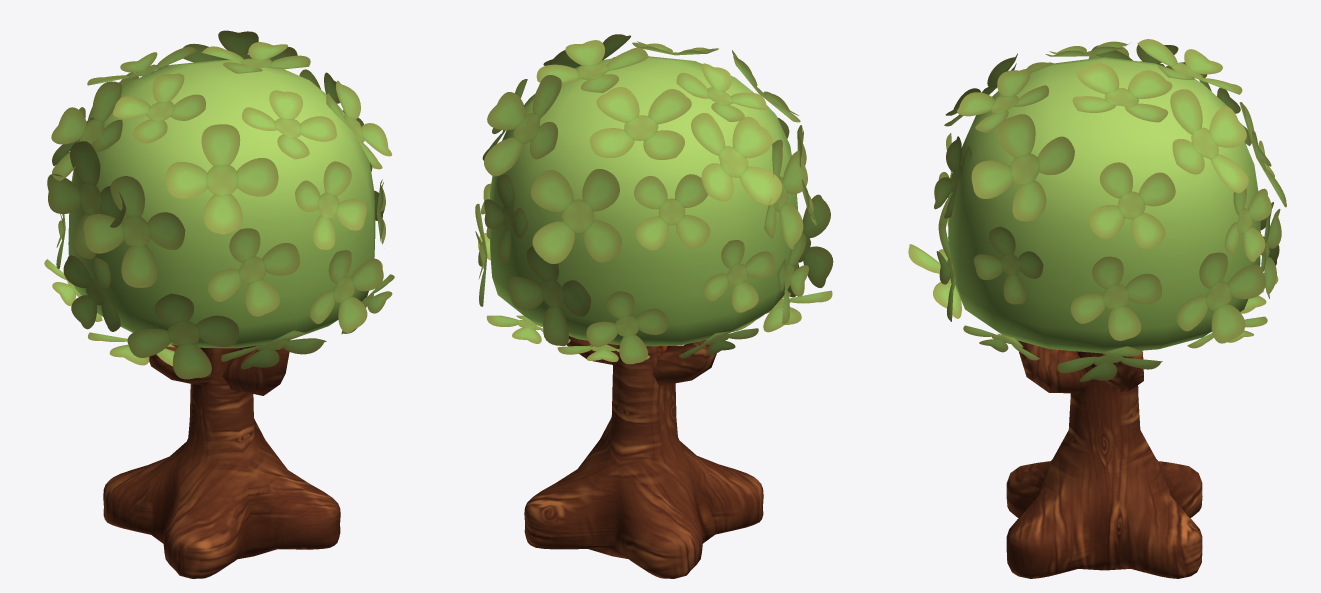
The model's file is mct_foliage_tree.fbx.
3 views of the same model, side by side, from view 1: azimuth 30°, elevation 25°; view 2: azimuth 150°, elevation 25°; view 3: azimuth 270°, elevation 25° (orthographic). The views are drawn at different scales.
Visible parts, largest first — view 1: mct_foliage_tree; view 2: mct_foliage_tree; view 3: mct_foliage_tree.
Boxes of the visible parts, bbox=[...] form: mct_foliage_tree: bbox=[44, 30, 394, 578]; mct_foliage_tree: bbox=[475, 34, 833, 578]; mct_foliage_tree: bbox=[908, 39, 1286, 578].
Size of the model in its own units: 302 by 397 by 298.
